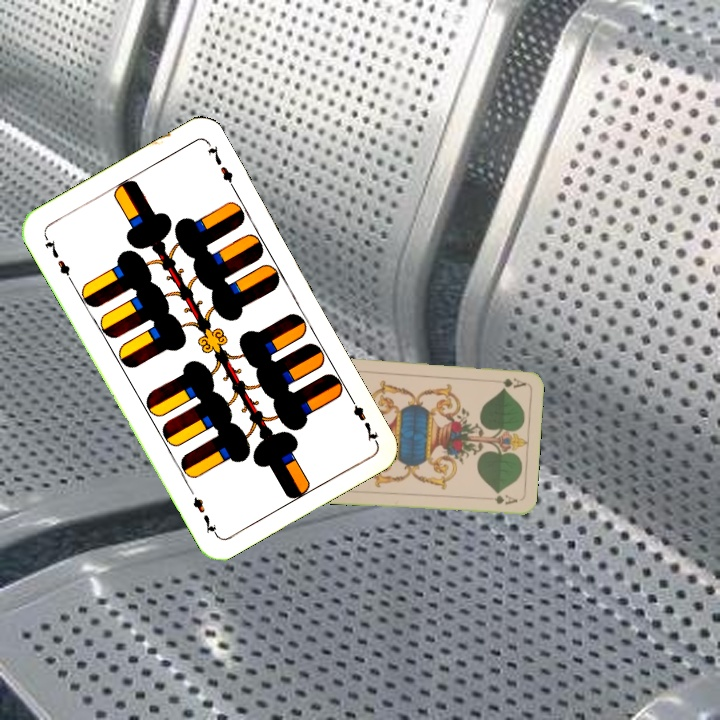E7: (344, 391, 381, 445), (40, 231, 76, 285)
GA: (488, 374, 528, 390)
